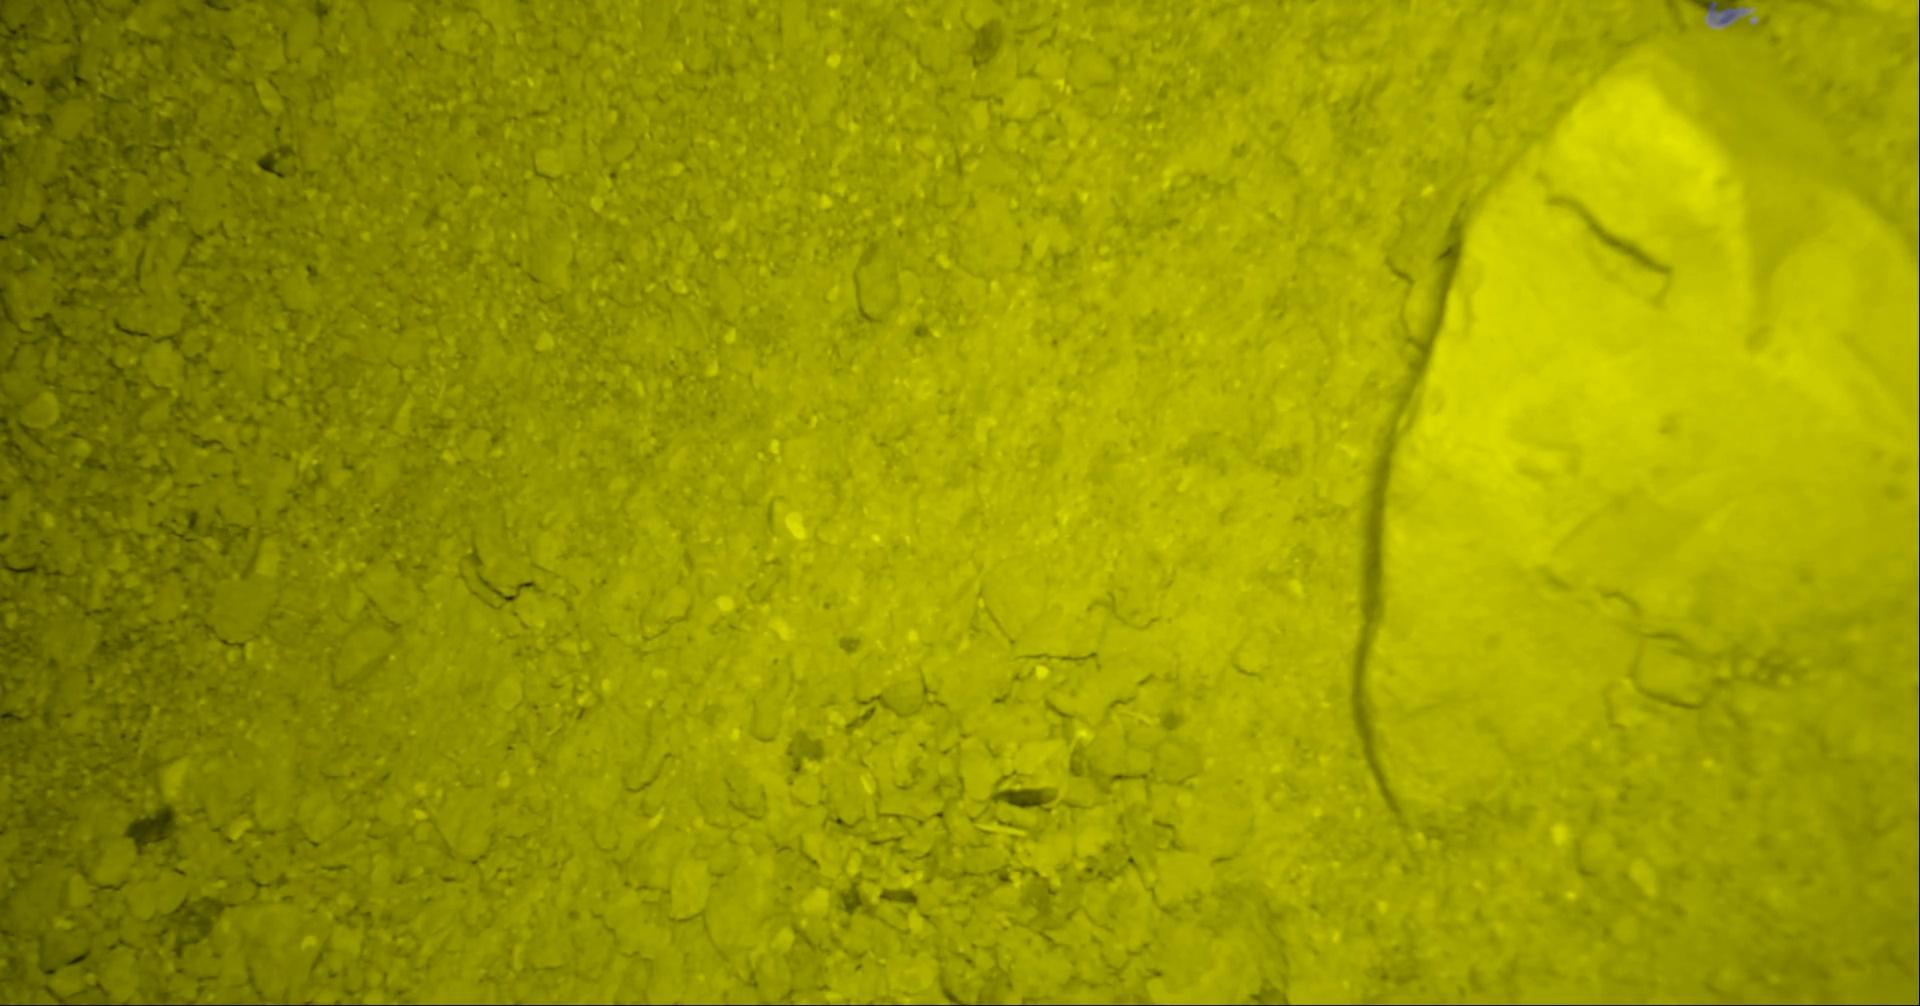ant: (1709, 0, 1737, 23)
